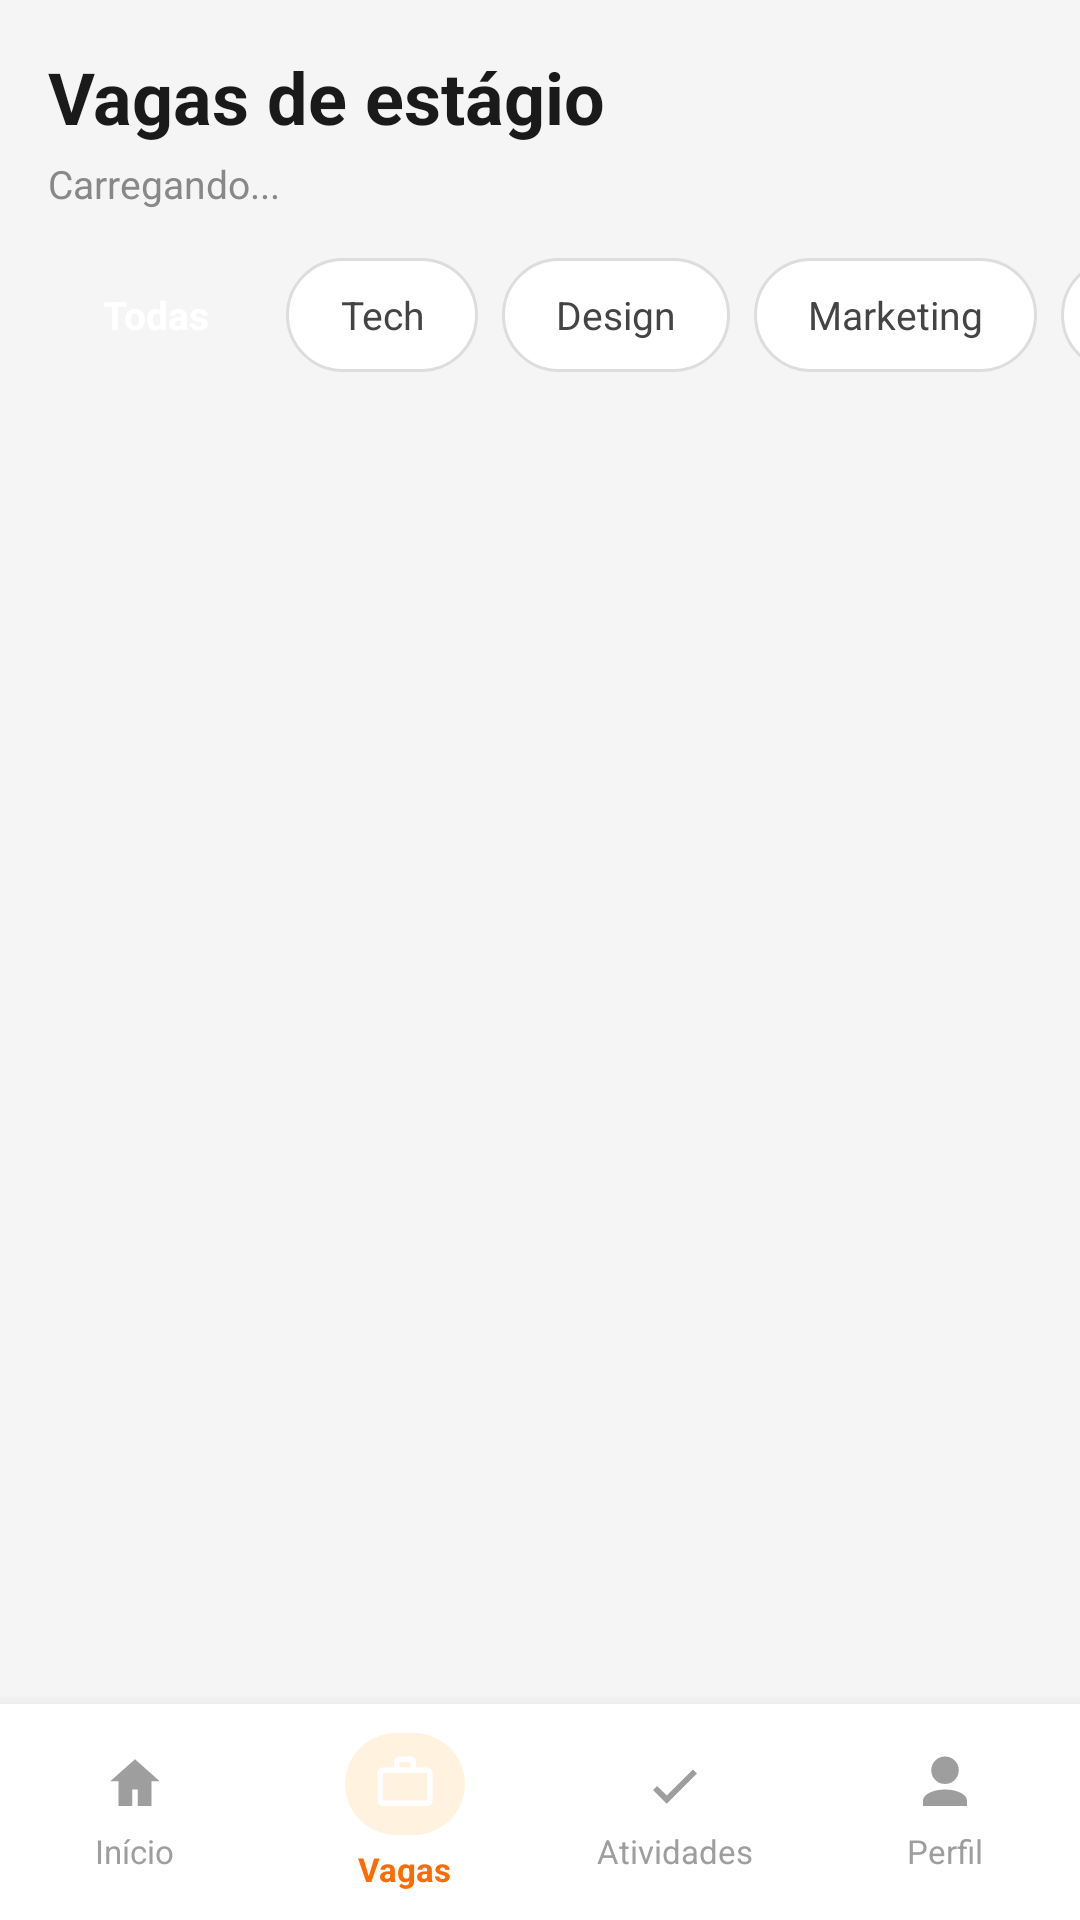

Where to tap for icons on this 1080w x 1920h app screen, as (x=x, y=y):
briefcase: (x=405, y=1781)
check nav: (x=675, y=1787)
